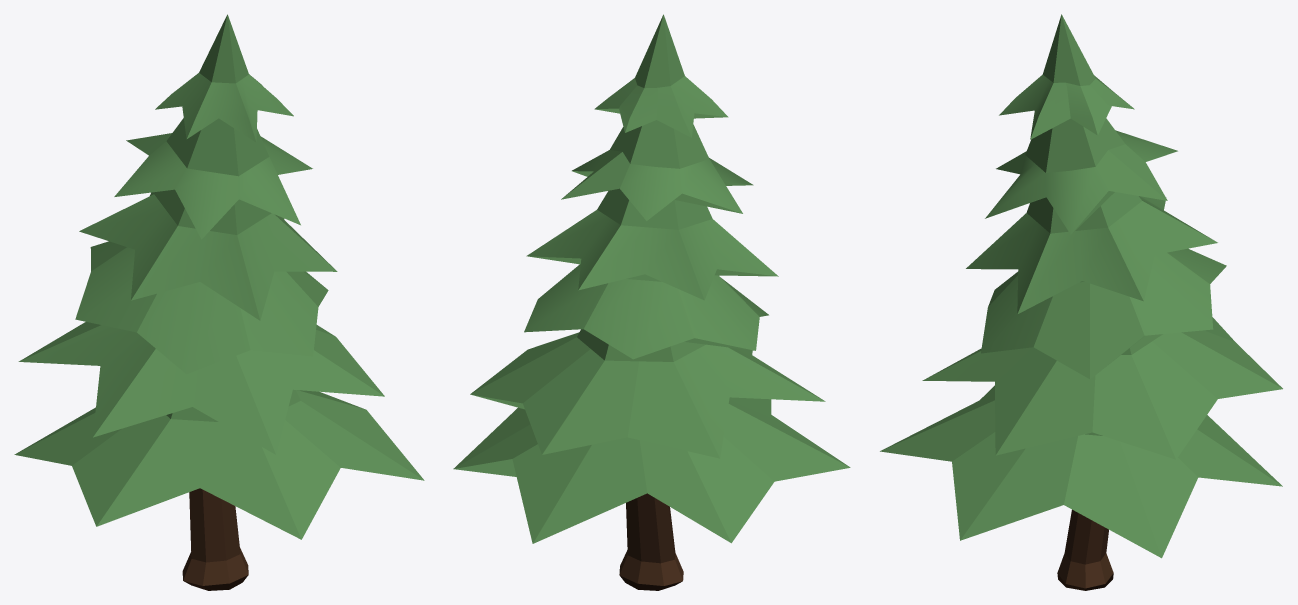
The model's file is TREE 2.fbx.
3 views of the same model, side by side, from view 1: azimuth 30°, elevation 25°; view 2: azimuth 150°, elevation 25°; view 3: azimuth 270°, elevation 25° (orthographic). The views are drawn at different scales.
Visible parts, largest first — view 1: tree top; view 2: tree top; view 3: tree top.
Part boxes in pixels (bbox=[...]): tree top: bbox=[14, 14, 424, 590]; tree top: bbox=[453, 14, 850, 590]; tree top: bbox=[880, 14, 1282, 590].
Size of the model in its own units: 594 by 993 by 644.
